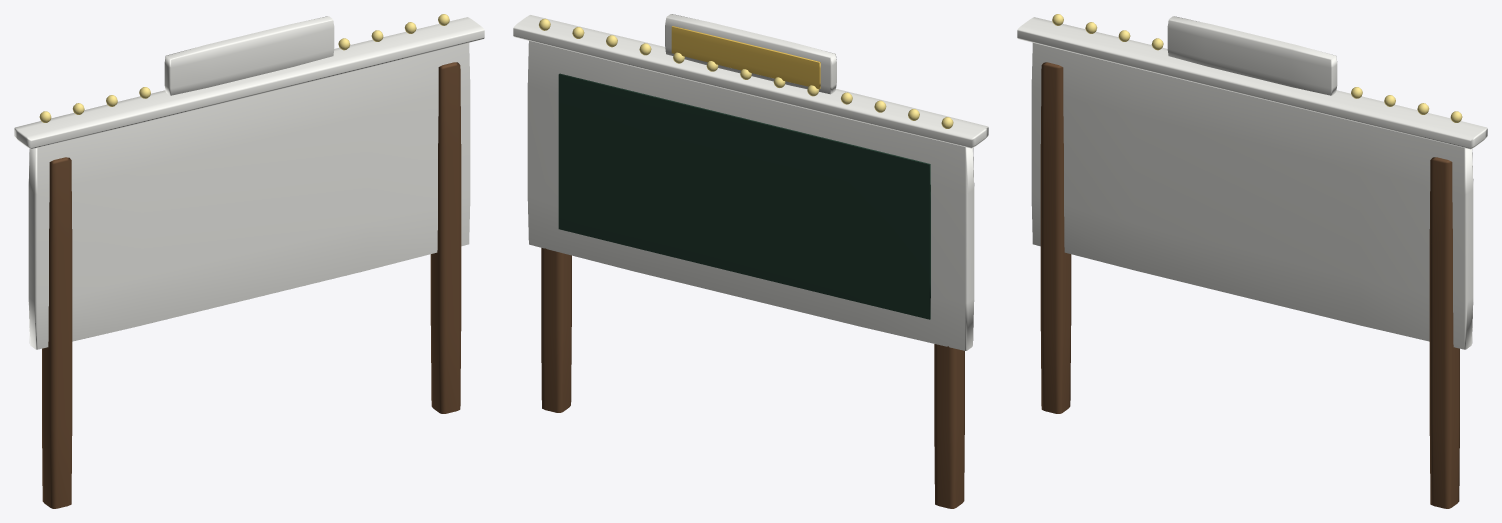
The model's file is StruggleScoreboard.obj.
The picture shows the model from 3 angles, left to right: view 1: azimuth 30°, elevation 25°; view 2: azimuth 150°, elevation 25°; view 3: azimuth 330°, elevation 25°; orthographic projection.
Parts seen in each view (by area): view 1: Frame, Legs, Bulbs; view 2: Face, Frame, Legs, Plaque, Bulbs; view 3: Frame, Legs, Bulbs.
Part boxes in pixels (x1,y1,x2,y2): Frame: (14, 16, 484, 349); Legs: (42, 62, 461, 508); Bulbs: (39, 14, 449, 122); Face: (558, 73, 930, 319); Frame: (513, 14, 988, 350); Legs: (541, 248, 964, 508); Plaque: (671, 26, 820, 89); Bulbs: (539, 18, 953, 128); Frame: (1017, 16, 1487, 349); Legs: (1040, 62, 1459, 508); Bulbs: (1052, 14, 1462, 122).
Bounding box in the file's own units: 19.2 × 16.89 × 1.3.
